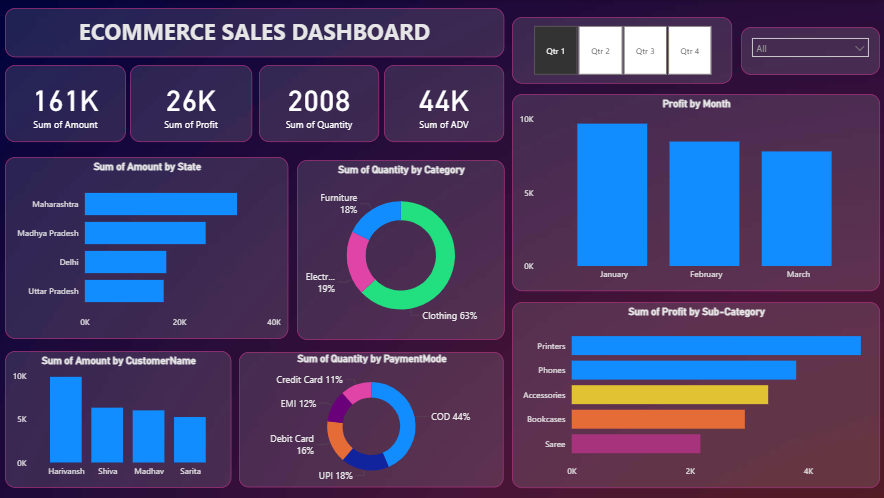

The page's visual inventory and layout, read from the dashboard file:
{"tool":"powerbi","page":{"name":"Page 1","canvas":[1280,720],"ordinal":0},"visuals":[{"type":"textbox","box":[10.1,11.8,719,70.6],"z":0},{"type":"columnChart","title":"Profit by Month","fields":{"Category":["Orders.Order Date.Variation.Date Hierarchy.Month"],"Y":["Sum(Details.Profit)"]},"box":[740.2,135.4,529.9,283.7],"z":1000},{"type":"barChart","fields":{"Category":["Details.Sub-Category"],"Y":["Sum(Details.Profit)"]},"box":[740.2,434.9,529.9,267.8],"z":2000},{"type":"donutChart","fields":{"Category":["Details.Category"],"Y":["Sum(Details.Quantity)"]},"box":[430,230.1,299,258.7],"z":3000},{"type":"donutChart","fields":{"Y":["Sum(Details.Quantity)"],"Category":["Details.PaymentMode"]},"box":[347.7,507.3,381.3,194.9],"z":4000},{"type":"card","fields":{"Values":["Sum(Details.Amount)"]},"box":[10.1,93.6,174.2,110.9],"z":5000},{"type":"card","fields":{"Values":["Sum(Details.Quantity)"]},"box":[375.8,93.6,172.8,110.9],"z":6000},{"type":"card","fields":{"Values":["Sum(Details.Profit)"]},"box":[190.1,93.6,175.7,110.9],"z":7000},{"type":"card","fields":{"Values":["Sum(Details.ADV)"]},"box":[555.8,93.6,172.8,110.9],"z":8000},{"type":"barChart","fields":{"Category":["Orders.State"],"Y":["Sum(Details.Amount)"]},"box":[10.1,226.8,408.2,262],"z":9000},{"type":"columnChart","fields":{"Category":["Orders.CustomerName"],"Y":["Sum(Details.Amount)"]},"box":[10.1,505.6,325.9,196.5],"z":10000},{"type":"slicer","fields":{"Values":["Orders.Order Date.Variation.Date Hierarchy.Quarter"]},"box":[740.8,25.2,317.5,95.7],"z":11000},{"type":"slicer","fields":{"Values":["Orders.State"]},"box":[1070,38.6,199.9,68.9],"z":12000}]}

Visuals, with their boxes in screenshot pixels (x1, y1, x2, y2), scaled from the page's 1280x720 canvas onto the 884x498 screenshot:
textbox: <region>7, 8, 504, 57</region>
"Profit by Month" columnChart: <region>511, 94, 877, 290</region>
barChart - Details.Sub-Category x Sum(Details.Profit): <region>511, 301, 877, 486</region>
donutChart - Details.Category x Sum(Details.Quantity): <region>297, 159, 503, 338</region>
donutChart - Sum(Details.Quantity) x Details.PaymentMode: <region>240, 351, 503, 486</region>
card - Sum(Details.Amount): <region>7, 65, 127, 141</region>
card - Sum(Details.Quantity): <region>260, 65, 379, 141</region>
card - Sum(Details.Profit): <region>131, 65, 253, 141</region>
card - Sum(Details.ADV): <region>384, 65, 503, 141</region>
barChart - Orders.State x Sum(Details.Amount): <region>7, 157, 289, 338</region>
columnChart - Orders.CustomerName x Sum(Details.Amount): <region>7, 350, 232, 486</region>
slicer - Orders.Order Date.Variation.Date Hierarchy.Quarter: <region>512, 17, 731, 84</region>
slicer - Orders.State: <region>739, 27, 877, 74</region>
